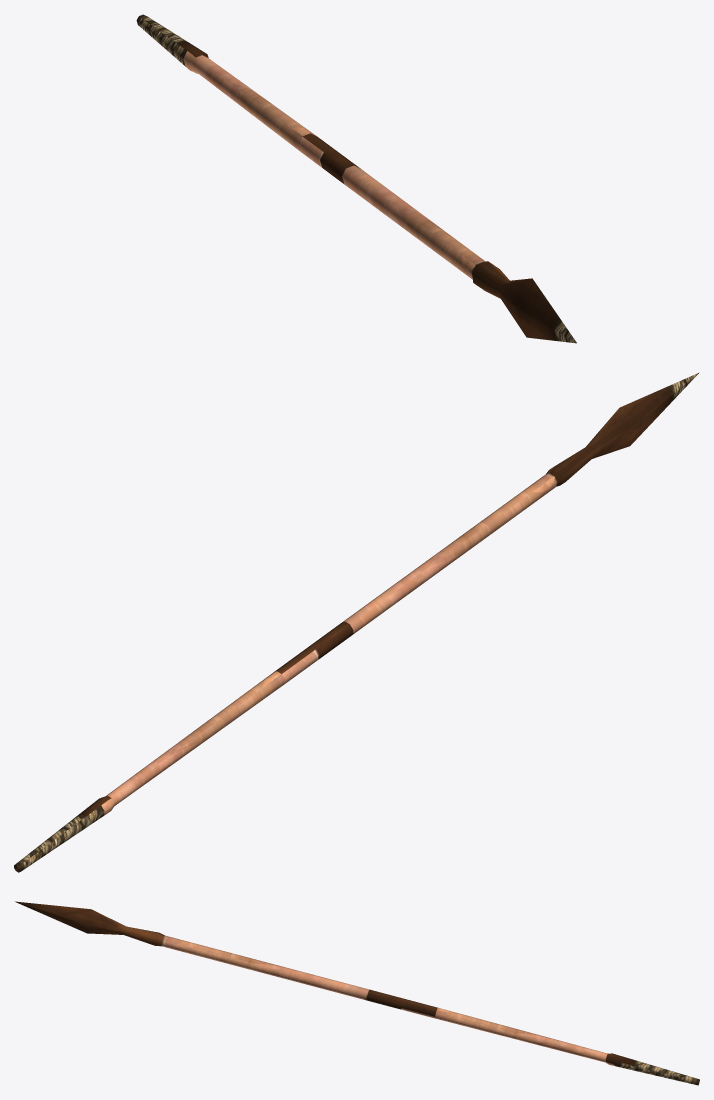
File: weapon-bronzeweapons.glb
3 renders of one model, top to bottom at view 1: azimuth 30°, elevation 25°; view 2: azimuth 150°, elevation 25°; view 3: azimuth 270°, elevation 25°, orthographic. The views are drawn at different scales.
Size of the model in its own units: 0.5609 by 0.5152 by 2.61.
1 material, 1 textured.
